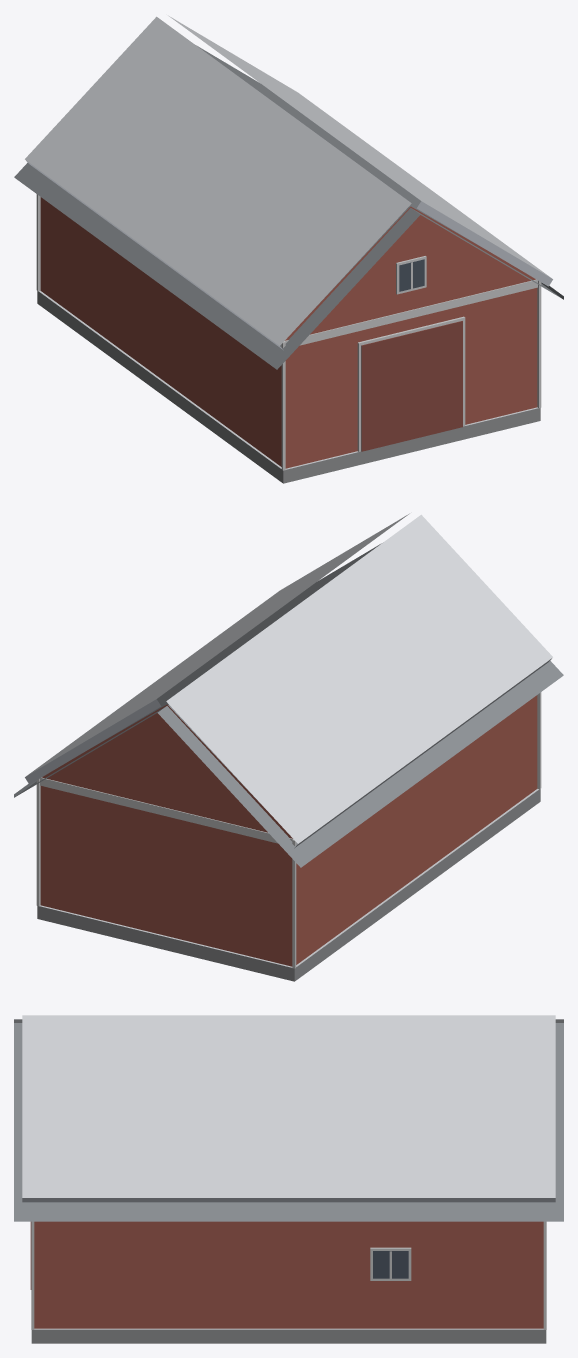
Rendered from maatalous_varasto.glb.
3 renders of one model, top to bottom at view 1: azimuth 30°, elevation 25°; view 2: azimuth 150°, elevation 25°; view 3: azimuth 270°, elevation 25°, orthographic. The views are drawn at different scales.
Parts seen in each view (by area): view 1: maatalous_varasto; view 2: maatalous_varasto; view 3: maatalous_varasto.
Part boxes in pixels (bbox=[...]): maatalous_varasto: bbox=[14, 15, 563, 483]; maatalous_varasto: bbox=[14, 513, 563, 981]; maatalous_varasto: bbox=[14, 1015, 563, 1343].
Size of the model in its own units: 6.8 by 5.74 by 10.8.
